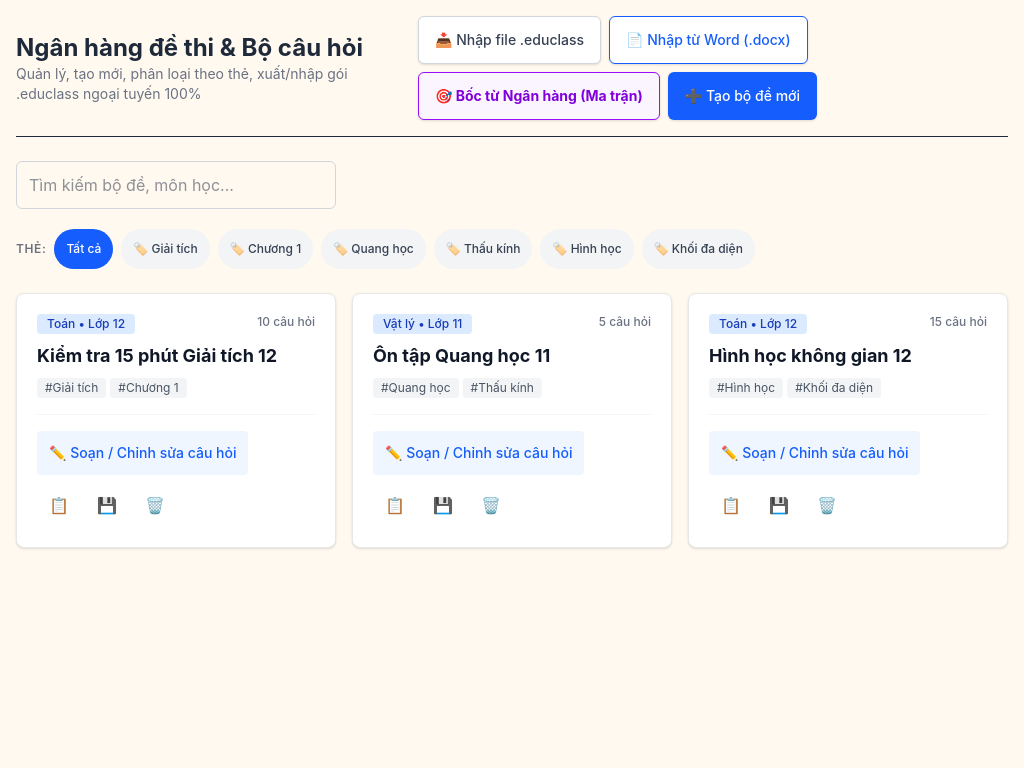
QuestionBankTab UI Component (apps/teacher-ui) › filters question sets by search text and by selected tag
The width and height of the screenshot is (1024, 768).
Note: Tìm kiếm theo text
Type "Quang học" into the field with test id "input-search-question-sets". click: [176, 185]
box: top-left (16, 161), bottom-right (336, 209)
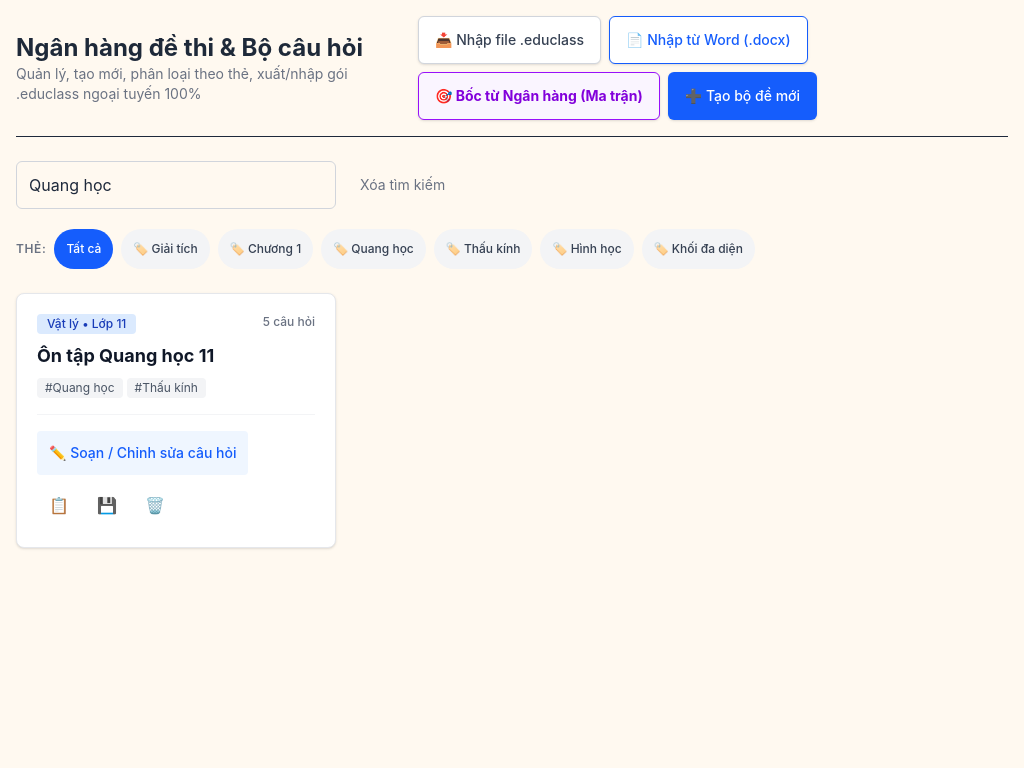
Check: the heading "Ôn tập Quang học 11" is shown, box top-left (37, 345), bottom-right (214, 366)
Check: the heading "Kiểm tra 15 phút Giải tích 12" is gone
Note: Xóa ô tìm kiếm
Clear the field with test id "input-search-question-sets". click: [176, 185]
box: top-left (16, 161), bottom-right (336, 209)
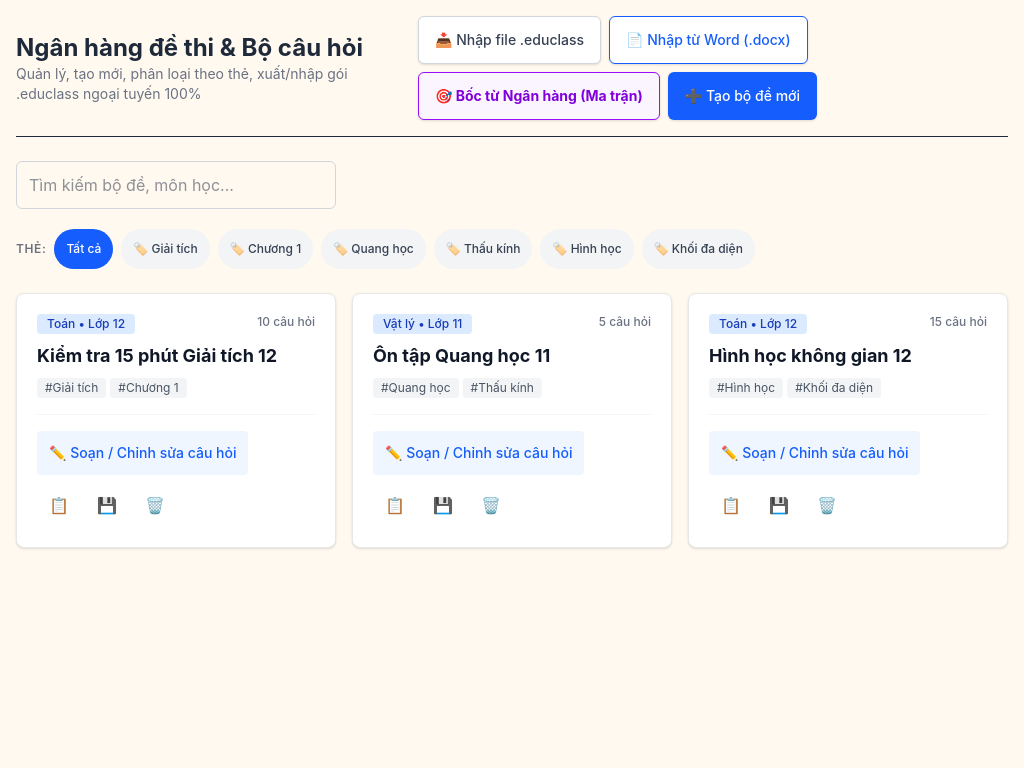
Check: the heading "Kiểm tra 15 phút Giải tích 12" is shown, box top-left (37, 342), bottom-right (315, 370)
Note: Lọc theo tag chip
Click the button with test id "tag-filter-Hình học". click: [587, 249]
box: top-left (540, 229), bottom-right (634, 269)
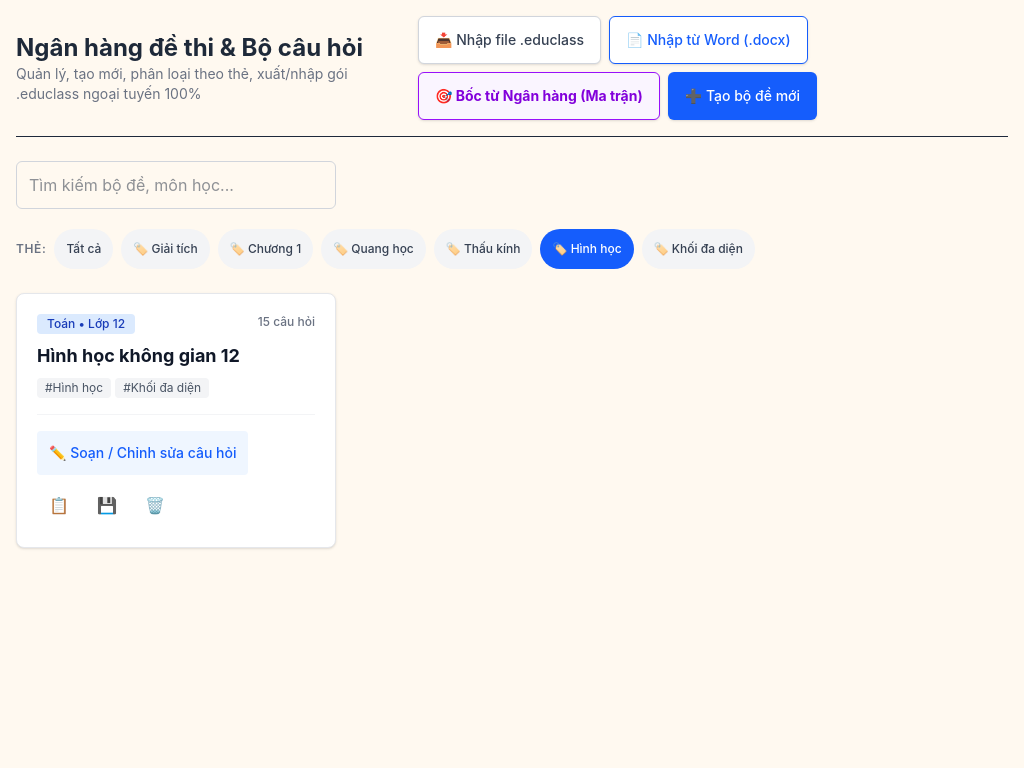
Check: the heading "Hình học không gian 12" is shown, box top-left (37, 345), bottom-right (240, 366)
Check: the heading "Ôn tập Quang học 11" is gone
